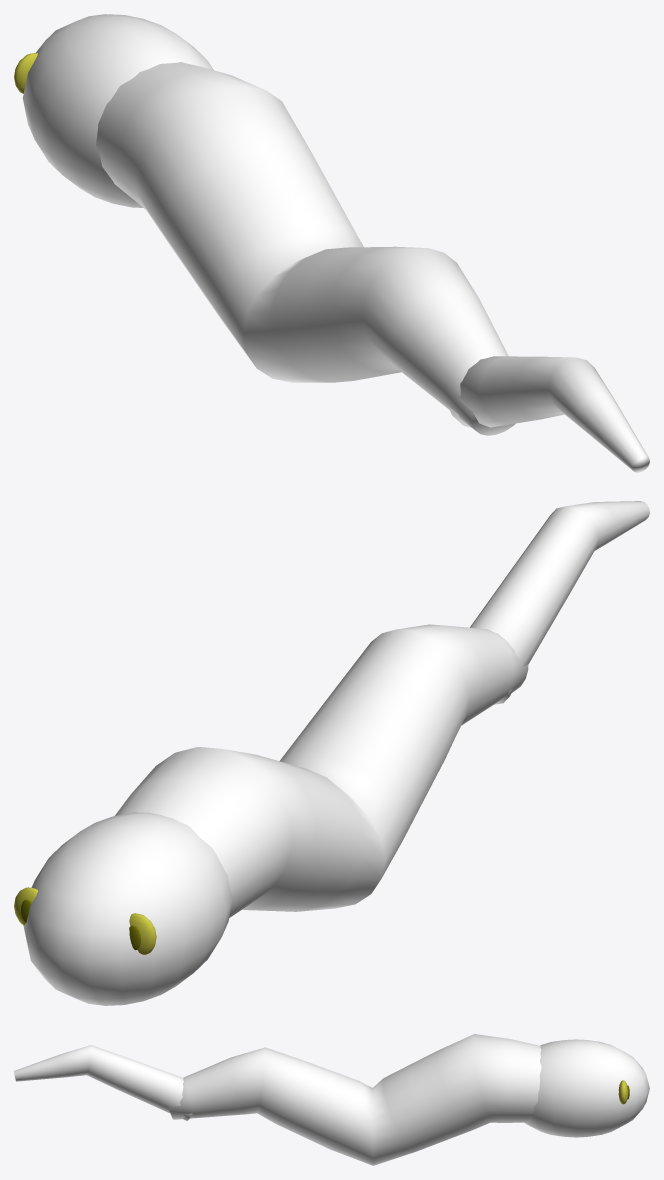
File: Electrofish.glb
The picture shows the model from 3 angles, top to bottom: view 1: azimuth 30°, elevation 25°; view 2: azimuth 150°, elevation 25°; view 3: azimuth 270°, elevation 25°; orthographic projection. The views are drawn at different scales.
Parts seen in each view (by area): view 1: Body, Head, Tail; view 2: Body, Head, Tail; view 3: Body, Head, Tail.
Boxes of the visible parts, x1,y1,x2,y2 form: Body: [96, 62, 515, 435]; Head: [14, 14, 213, 207]; Tail: [448, 356, 649, 472]; Body: [115, 624, 528, 917]; Head: [14, 812, 233, 1005]; Tail: [470, 501, 649, 704]; Body: [169, 1034, 541, 1165]; Head: [524, 1039, 649, 1137]; Tail: [14, 1045, 192, 1120].
Bounding box in the file's own units: 0.2576 × 0.3392 × 1.59.
Materials: 1 (1 with a texture image).
